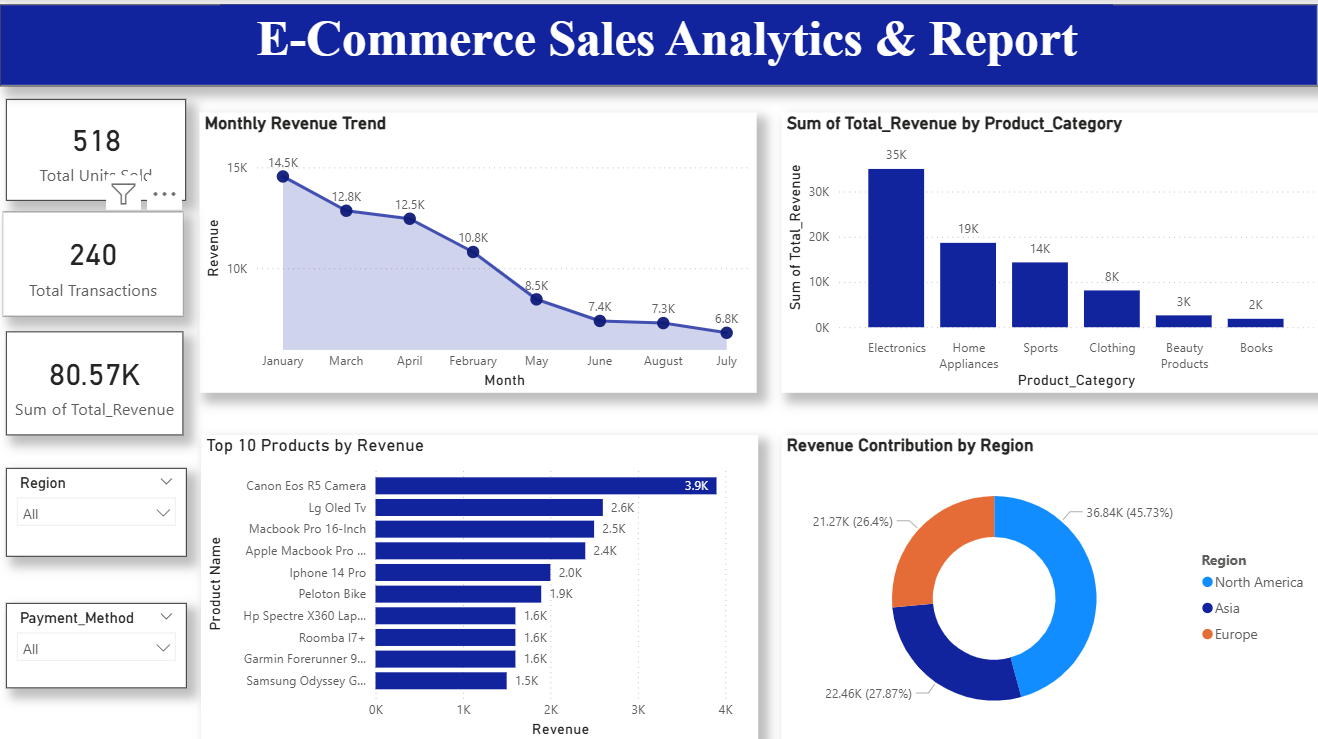

This screenshot's page, from the dashboard's own definition file:
{"tool":"powerbi","page":{"name":"Page 1","canvas":[1280,720],"ordinal":0},"visuals":[{"type":"card","fields":{"Values":["Online Sales Data.Total Units Sold"]},"box":[6.5,95.5,174.9,98.8],"z":0},{"type":"lineChart","title":"Monthly Revenue Trend","fields":{"Category":["Online Sales Data.Month"],"Y":["Sum(Online Sales Data.Total_Revenue)"]},"box":[194.3,108.5,540.8,272],"z":1000},{"type":"card","fields":{"Values":["Online Sales Data.Total Transactions"]},"box":[3.2,205.6,174.9,102],"z":2000},{"type":"clusteredColumnChart","fields":{"Category":["Online Sales Data.Product_Category"],"Y":["Sum(Online Sales Data.Total_Revenue)"]},"box":[757.8,108.5,521.4,272],"z":3000},{"type":"donutChart","title":"Revenue Contribution by Region","fields":{"Category":["Online Sales Data.Region"],"Y":["Sum(Online Sales Data.Total_Revenue)"]},"box":[758.3,422.2,521.2,297.1],"z":4000},{"type":"slicer","fields":{"Values":["Online Sales Data.Region"]},"box":[6.5,454.6,175.4,86.1],"z":5000},{"type":"slicer","fields":{"Values":["Online Sales Data.Payment_Method"]},"box":[6.5,584.5,175.4,82.8],"z":6000},{"type":"clusteredBarChart","title":"Top 10 Products by Revenue","fields":{"Category":["Online Sales Data.Product_Name"],"Y":["Sum(Online Sales Data.Total_Revenue)"]},"box":[194.8,422.2,540.7,297.1],"z":7000},{"type":"card","fields":{"Values":["Sum(Online Sales Data.Total_Revenue)"]},"box":[6.5,321.5,172.1,100.7],"z":8000},{"type":"shape","box":[0,4.9,1279.2,79.3],"z":9000},{"type":"textbox","box":[213.7,4.9,866.3,68],"z":10000}]}

Visuals, with their boxes in screenshot pixels (x1, y1, x2, y2), scaled from the page's 1280x720 canvas onto the 1318x739 screenshot:
card - Online Sales Data.Total Units Sold: 7,98,187,199
"Monthly Revenue Trend" lineChart: 200,111,757,391
card - Online Sales Data.Total Transactions: 3,211,183,316
clusteredColumnChart - Online Sales Data.Product_Category x Sum(Online Sales Data.Total_Revenue): 780,111,1317,391
"Revenue Contribution by Region" donutChart: 781,433,1317,738
slicer - Online Sales Data.Region: 7,467,187,555
slicer - Online Sales Data.Payment_Method: 7,600,187,685
"Top 10 Products by Revenue" clusteredBarChart: 201,433,757,738
card - Sum(Online Sales Data.Total_Revenue): 7,330,184,433
shape: 0,5,1317,86
textbox: 220,5,1112,75
